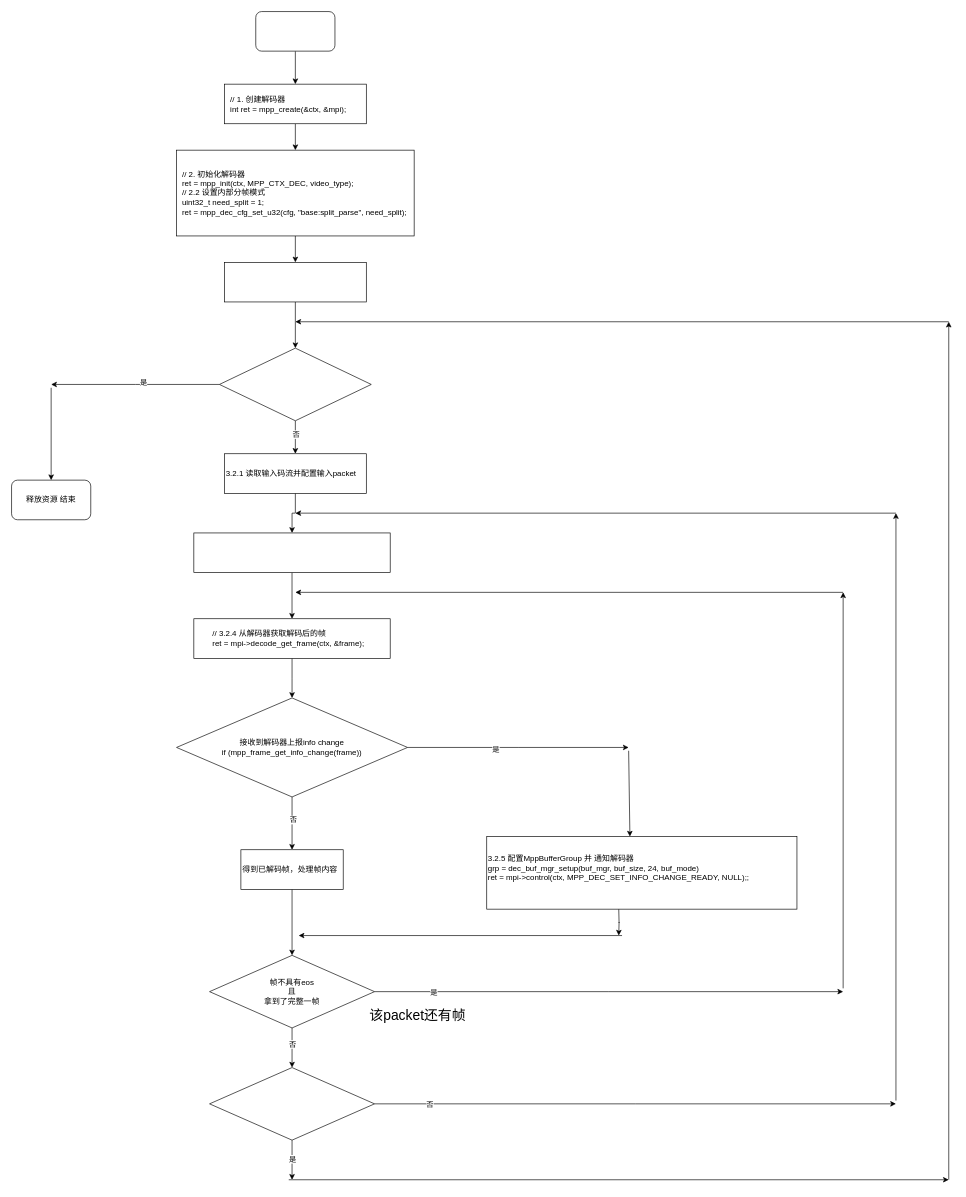
Image size: 966x1197. Some labels were removed from this diagram. The shapes that lost their labels are listed below. From the top down, each one's box as (x1, y1, x2, y2) in pixels, then its label:
(255, 11, 335, 51): 开始
(224, 262, 366, 302): 初始化 MppBufferGroup MppPacket 打开输入码流文件
(219, 347, 371, 421): 解码到指定帧数 或 输入码流文件读完
(193, 532, 390, 573): // 3.2.3 packet传入解码器 ret = mpi->decode_put_packet(ctx, packet);
(209, 1067, 375, 1140): packet是否被解码器消耗完
